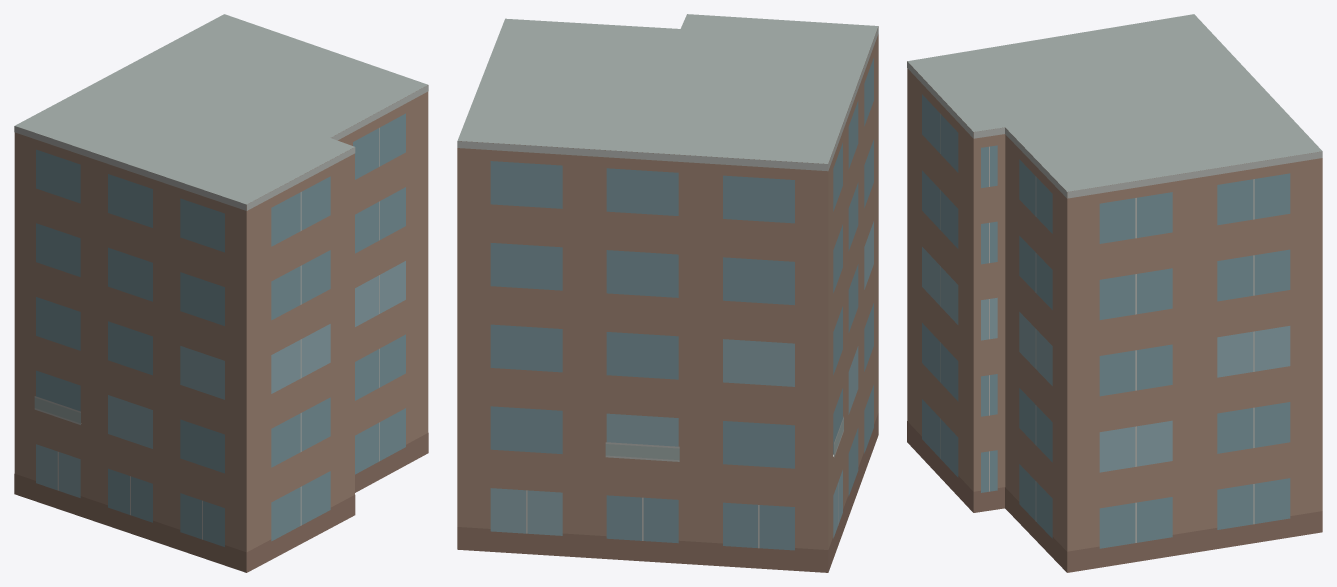
File: survey-upis-32860464.glb
3 renders of one model, left to right at view 1: azimuth 30°, elevation 25°; view 2: azimuth 150°, elevation 25°; view 3: azimuth 270°, elevation 25°, orthographic. The views are drawn at different scales.
Visible parts, largest first — view 1: survey-upis-32860464.tmp; view 2: survey-upis-32860464.tmp; view 3: survey-upis-32860464.tmp.
Boxes of the visible parts, left/top/right/bottom form: survey-upis-32860464.tmp: left=14, top=14, right=428, bottom=572; survey-upis-32860464.tmp: left=457, top=14, right=878, bottom=572; survey-upis-32860464.tmp: left=907, top=14, right=1322, bottom=572.
Size of the model in its own units: 13.93 by 13.9 by 13.75.
